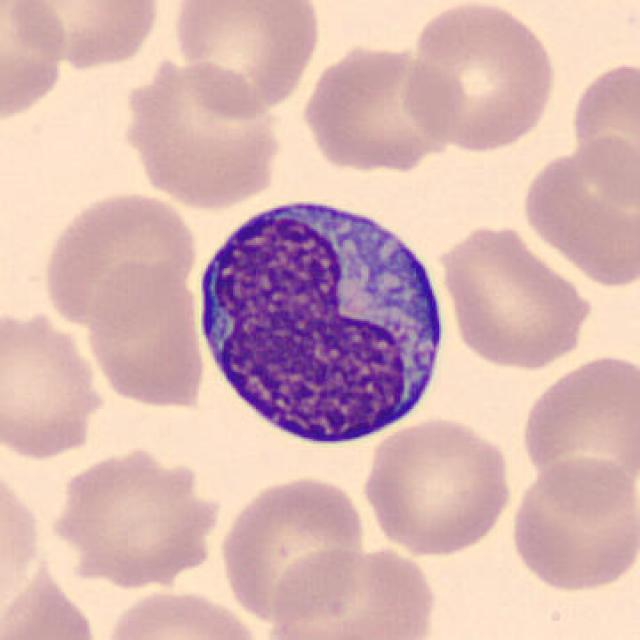Monocyte: (185, 185, 451, 457)
RBC: (116, 51, 288, 212), (42, 442, 226, 589), (398, 0, 560, 155), (436, 219, 596, 372), (37, 185, 201, 333), (217, 469, 368, 624), (359, 412, 516, 559), (298, 37, 461, 176), (516, 349, 638, 518), (84, 258, 210, 412), (519, 132, 640, 291), (505, 453, 638, 596), (169, 0, 323, 120), (0, 300, 107, 465), (263, 543, 439, 640), (565, 55, 640, 217), (7, 0, 165, 72), (0, 2, 71, 130), (98, 585, 263, 640), (0, 552, 103, 640)
